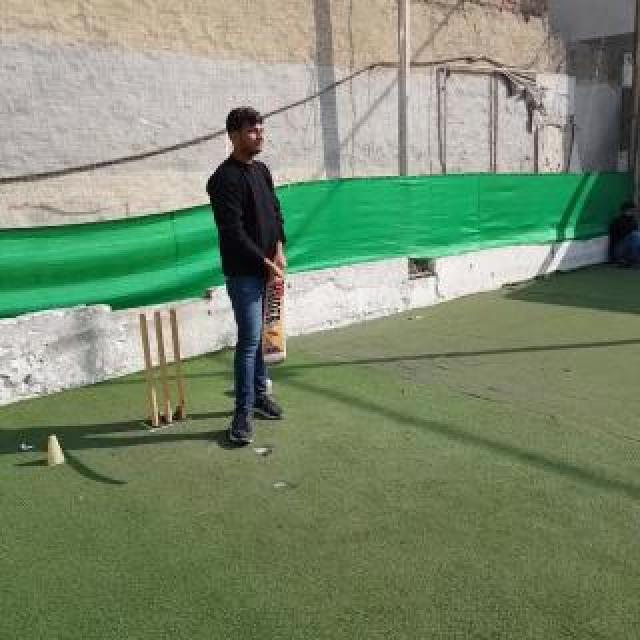bat: (262, 256, 288, 366)
